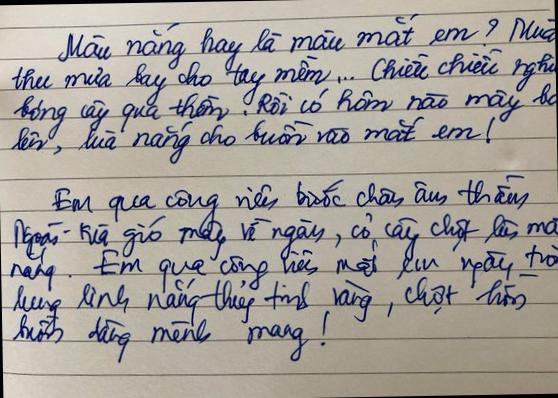text: (9, 44, 556, 109), (54, 6, 556, 74), (12, 206, 558, 267), (7, 237, 558, 297), (10, 79, 557, 138), (8, 271, 541, 330), (9, 110, 499, 168), (49, 172, 530, 226), (10, 307, 332, 368)
